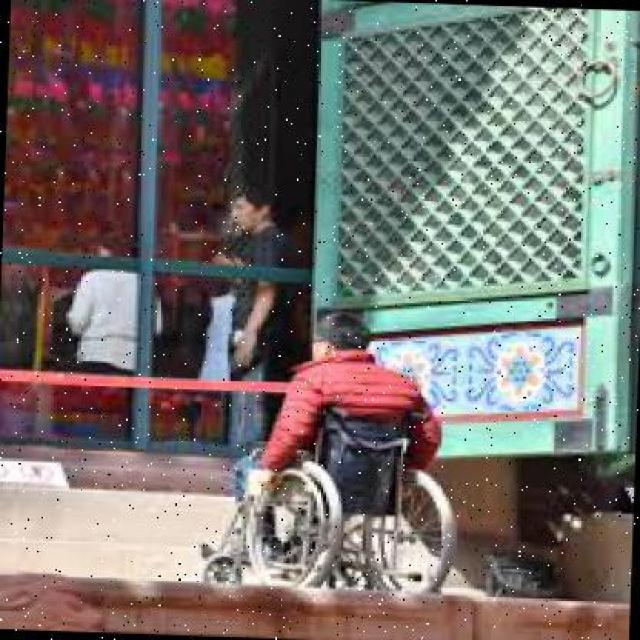obstacle: (202, 314, 456, 595), (214, 193, 292, 459)
